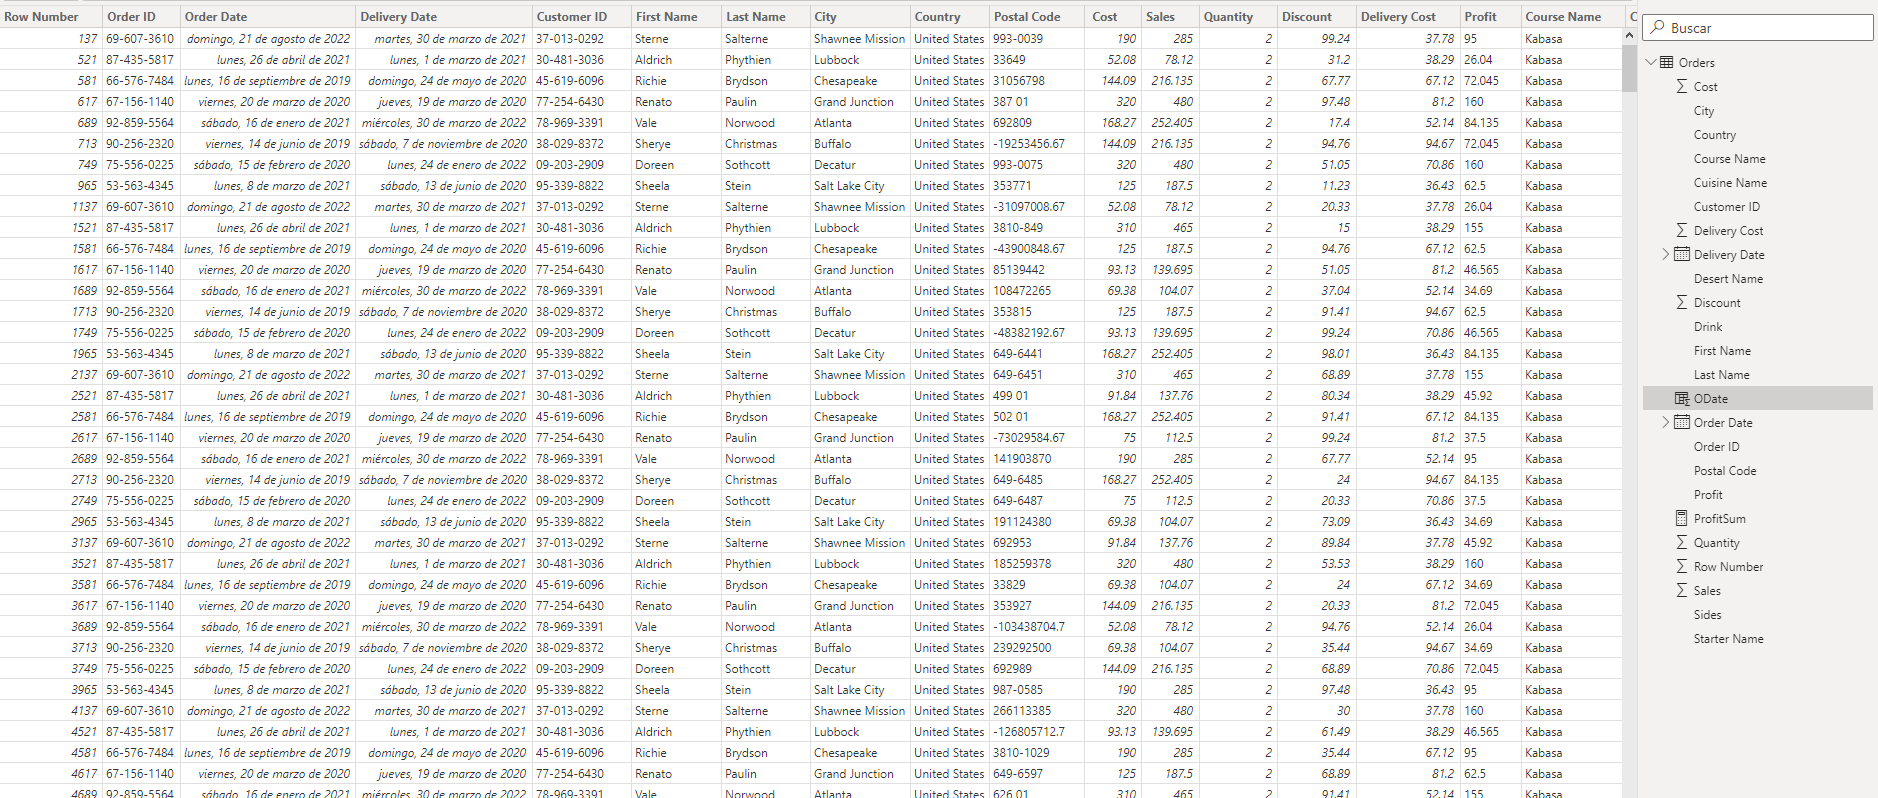

What the dashboard file says about the page in this screenshot:
{"tool":"powerbi","page":{"name":"Página 2","canvas":[1280,720],"ordinal":1},"visuals":[{"type":"pivotTable","fields":{"Rows":["Orders.City"],"Values":["Min(Orders.Profit)"],"Columns":["Orders.Order Date.Variación.Jerarquía de fechas.Año"]},"box":[93,46,635,543],"z":0}]}

Visuals, with their boxes on the page's 1280x720 design canvas (x1, y1, x2, y2). These are canvas units, not pixel positions in the 1878x798 screenshot, which may show the page scaled, cropped or inside an application window:
pivotTable - Orders.City x Min(Orders.Profit): (x1=93, y1=46, x2=728, y2=589)
